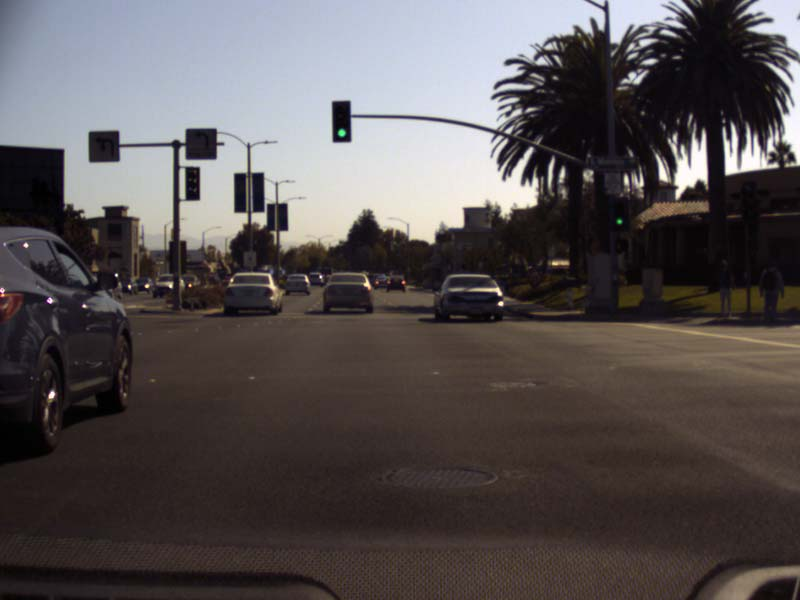Green: (332, 101, 351, 141), (610, 196, 627, 231)
